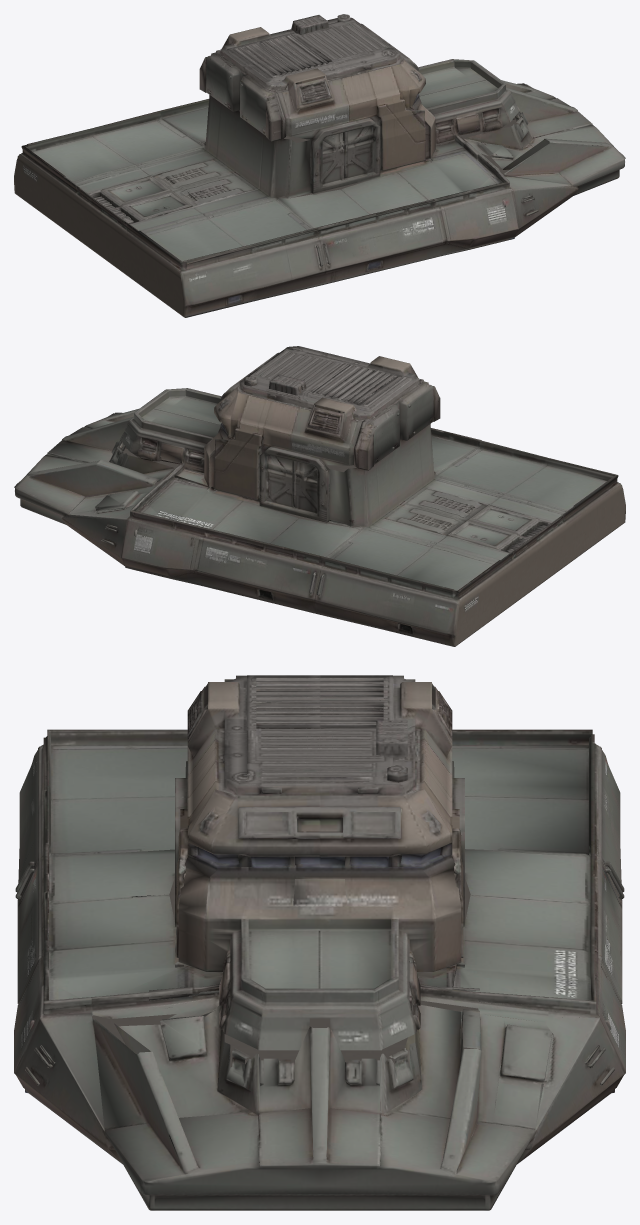
Rendered from armored_vehicle_3d_model.fbx.
3 renders of one model, top to bottom at view 1: azimuth 30°, elevation 25°; view 2: azimuth 150°, elevation 25°; view 3: azimuth 270°, elevation 25°, orthographic. The views are drawn at different scales.
Parts seen in each view (by area): view 1: meshes[0]; view 2: meshes[0]; view 3: meshes[0].
Part boxes in pixels (x1,y1,x2,y2): meshes[0]: [14, 14, 625, 317]; meshes[0]: [14, 346, 625, 646]; meshes[0]: [14, 675, 625, 1210].
Size of the model in its own units: 0.979 by 0.32 by 0.6341.
